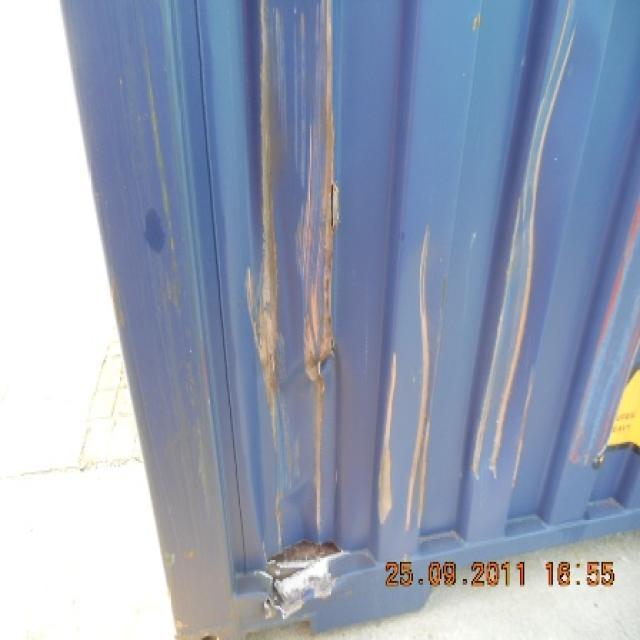hole: (245, 535, 351, 624), (329, 179, 341, 237)
